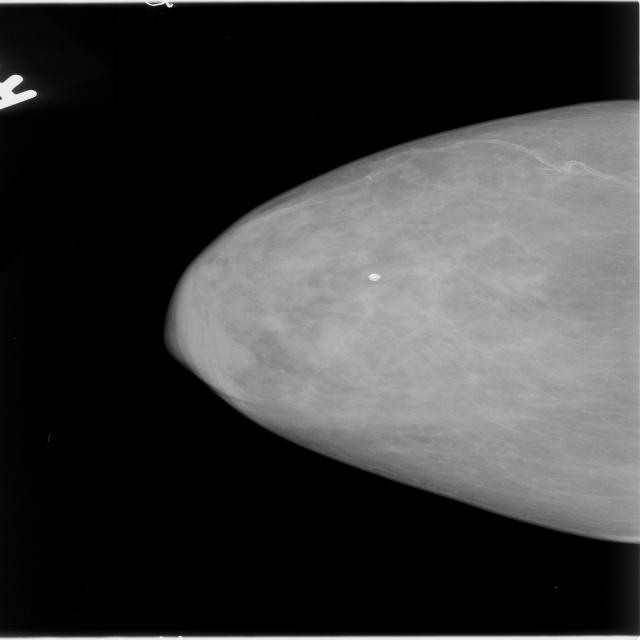normal: (146, 72, 640, 535)
